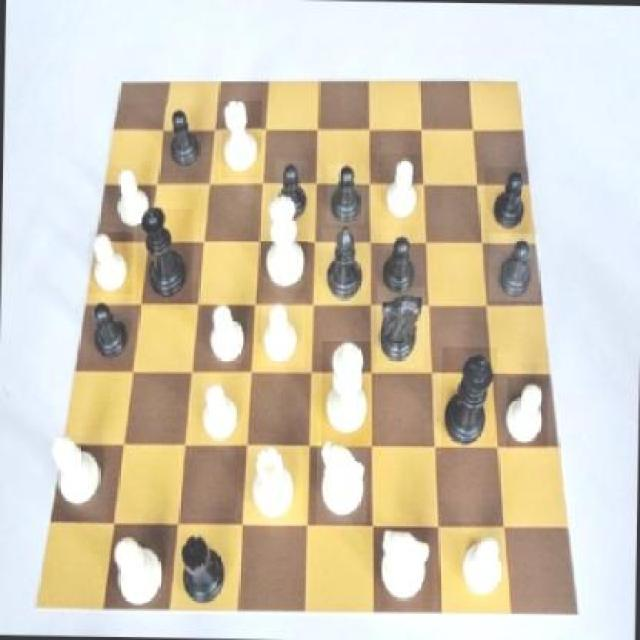bishop: (320, 229, 367, 305)
black-bishop: (440, 346, 497, 449)
black-king: (376, 286, 426, 369)
black-knight: (489, 232, 540, 300), (163, 106, 208, 179), (484, 166, 532, 233), (89, 298, 134, 368), (380, 230, 421, 292), (326, 163, 366, 224), (274, 158, 308, 222)
black-pawn: (135, 208, 193, 310)
black-queen: (178, 534, 232, 608)
black-rook: (48, 431, 108, 514), (108, 534, 164, 611)
white-bishop: (320, 340, 375, 446)
white-king: (380, 522, 434, 608), (317, 440, 368, 527)
white-knight: (260, 298, 306, 368), (464, 523, 504, 602), (506, 377, 549, 449), (380, 153, 423, 220), (89, 231, 134, 294), (108, 165, 152, 228), (200, 380, 241, 445), (205, 303, 248, 362)
white-pawn: (260, 197, 309, 294)
white-queen: (245, 445, 302, 527), (222, 100, 262, 179)
